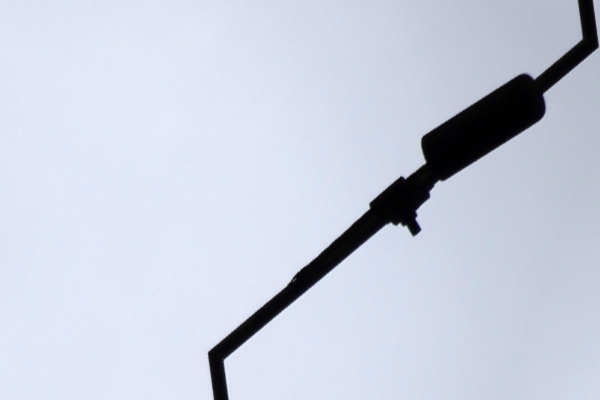damper_defect: (276, 70, 550, 292)
